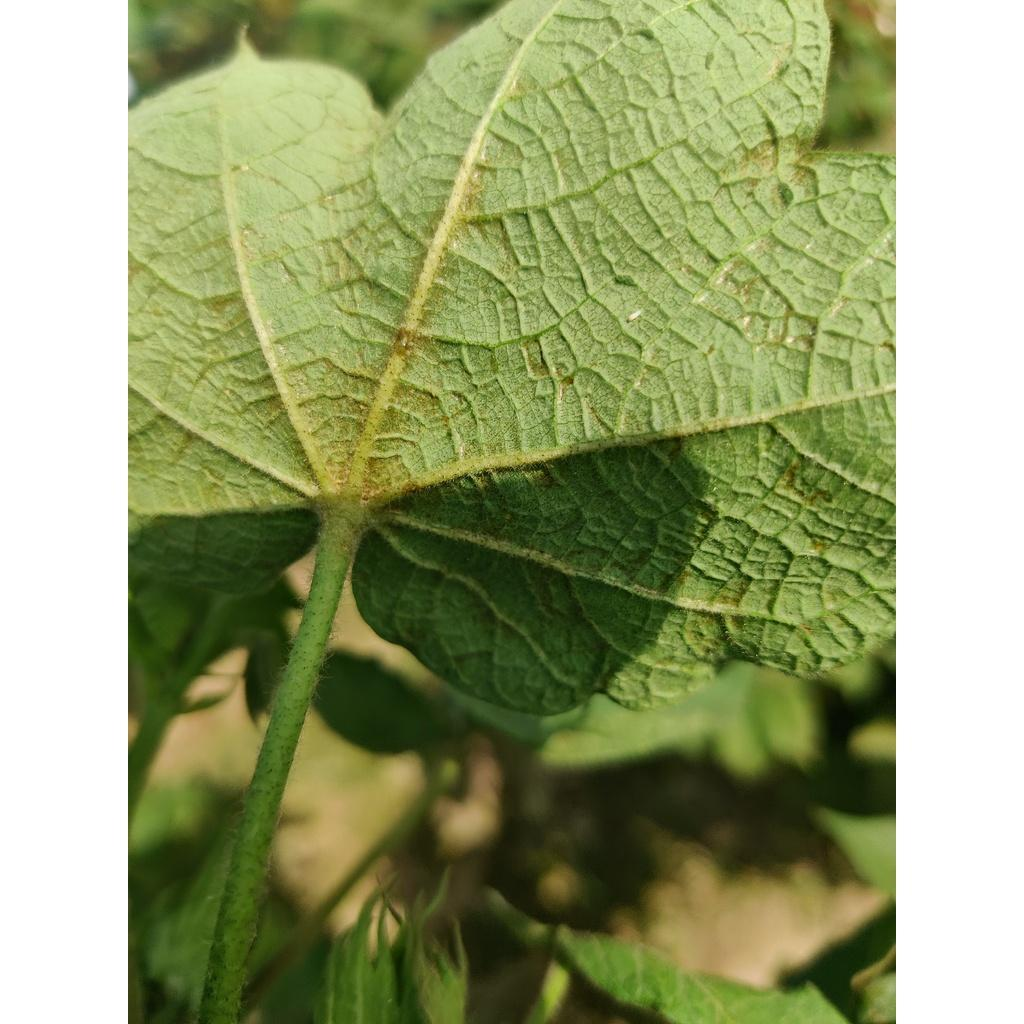adult: (627, 309, 641, 322)
